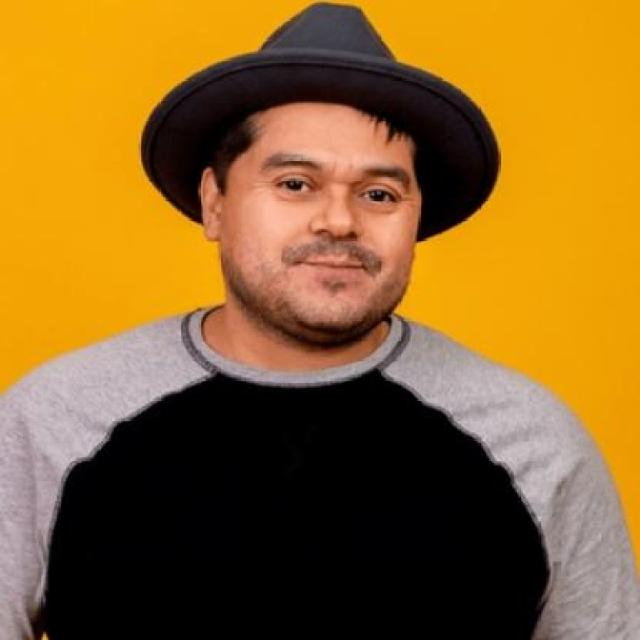sem_oculos: (0, 3, 640, 640), (217, 135, 440, 211)
